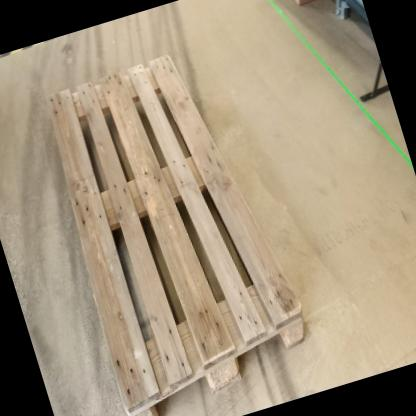BoxFace: (39, 42, 309, 416)
